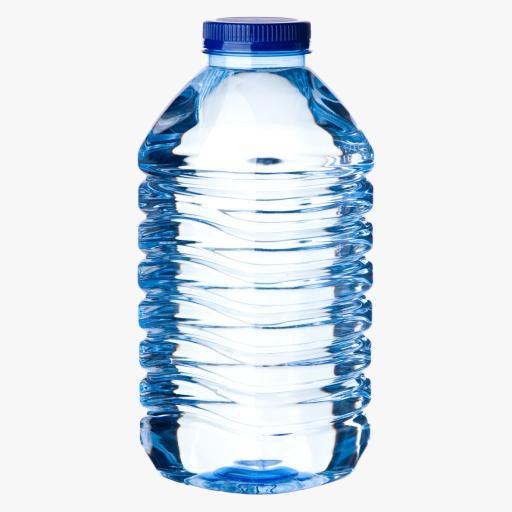bottle: (134, 1, 376, 499)
